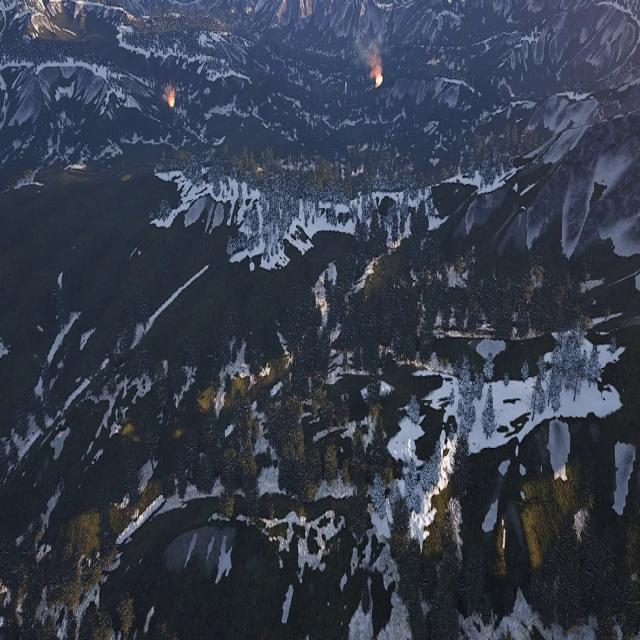fire: (167, 85, 177, 107), (374, 65, 384, 87)
smoke: (353, 3, 384, 72), (354, 35, 382, 72)
